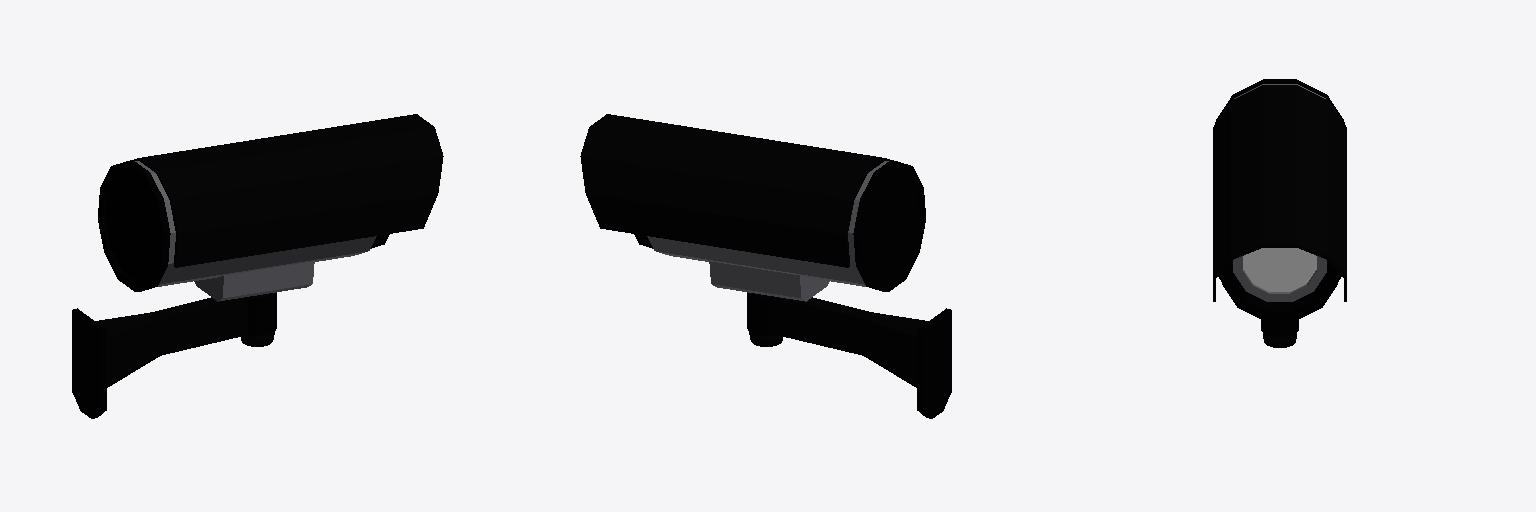
File: security_camera.obj
3 views of the same model, side by side, from view 1: azimuth 30°, elevation 25°; view 2: azimuth 150°, elevation 25°; view 3: azimuth 270°, elevation 25° (orthographic).
Parts seen in each view (by area): view 1: security_camera; view 2: security_camera; view 3: security_camera.
Boxes of the visible parts, x1=… form: security_camera: x1=72, y1=114, x2=443, y2=418; security_camera: x1=580, y1=114, x2=951, y2=418; security_camera: x1=1213, y1=79, x2=1346, y2=347.
Size of the model in its own units: 0.4178 by 0.2771 by 0.1437.